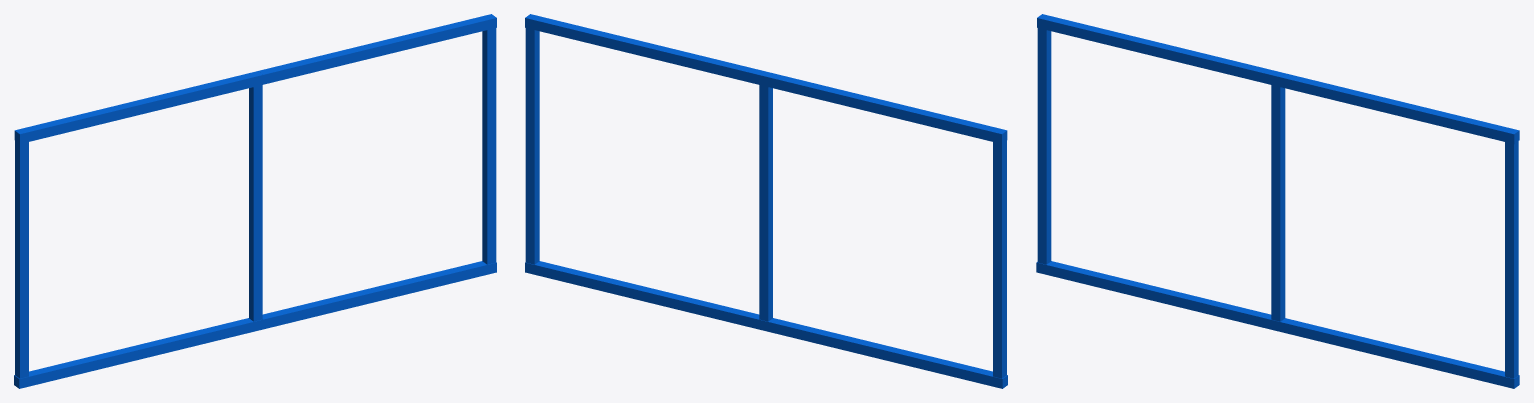
The model's file is Warehouse_02_Window_02B.fbx.
The picture shows the model from 3 angles, left to right: view 1: azimuth 30°, elevation 25°; view 2: azimuth 150°, elevation 25°; view 3: azimuth 330°, elevation 25°; orthographic projection.
Visible parts, largest first — view 1: Warehouse_02_Window_02B; view 2: Warehouse_02_Window_02B; view 3: Warehouse_02_Window_02B.
Part boxes in pixels (left/top/right/bottom): Warehouse_02_Window_02B: left=14, top=14, right=496, bottom=388; Warehouse_02_Window_02B: left=525, top=14, right=1007, bottom=388; Warehouse_02_Window_02B: left=1036, top=14, right=1519, bottom=388.
Size of the model in its own units: 839 by 427 by 16.2.
